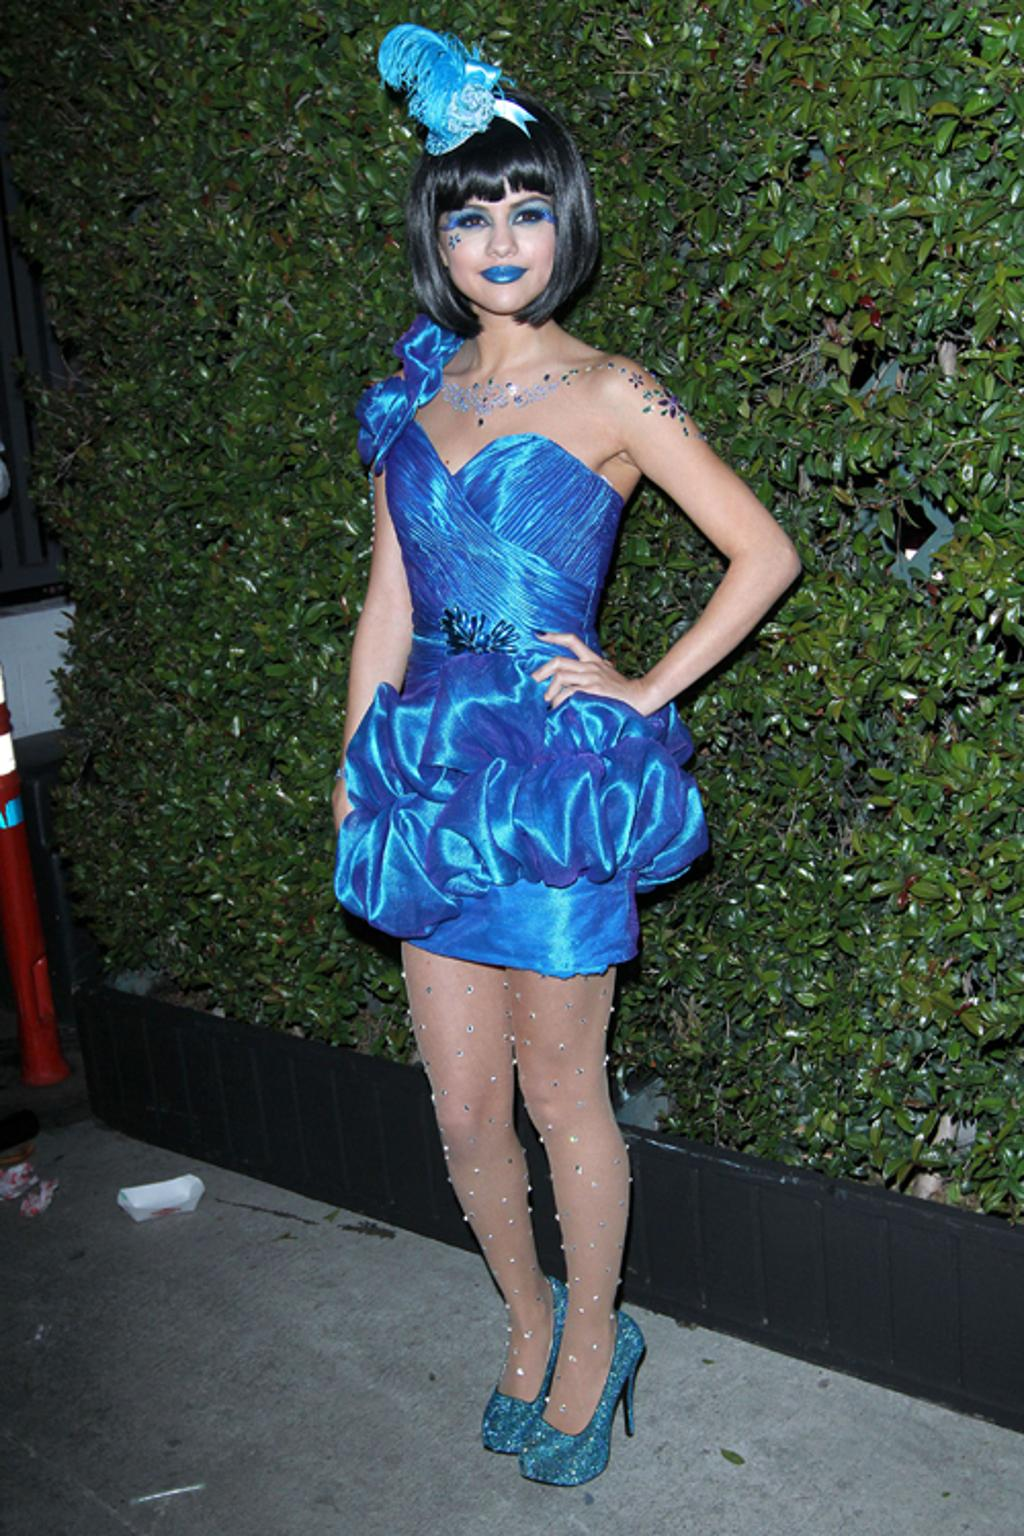face: (435, 147, 558, 312)
